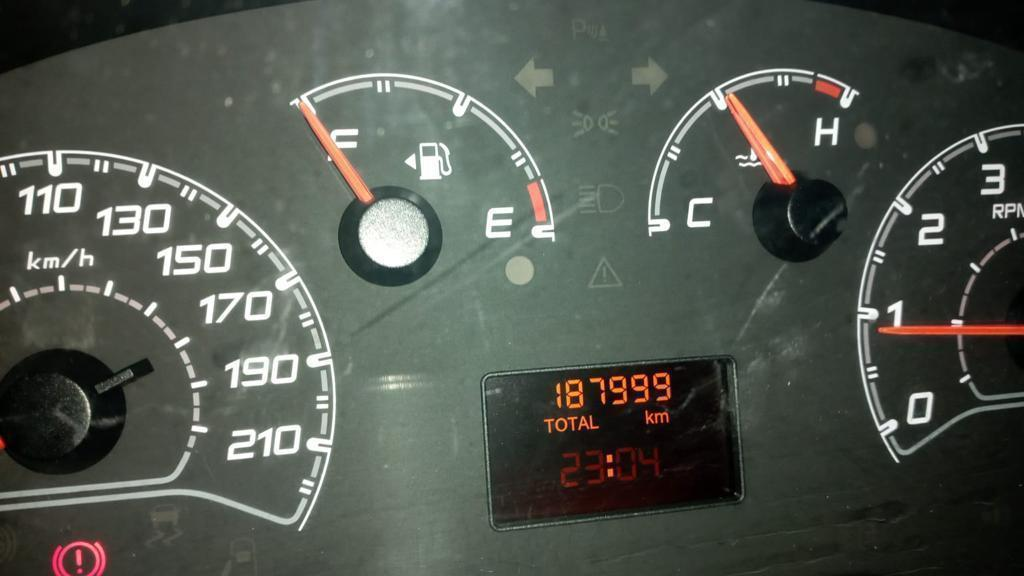0: (615, 445, 635, 483)
1: (554, 380, 563, 411)
2: (560, 451, 581, 490)
3: (583, 448, 606, 486)
4: (638, 446, 663, 478)
7: (588, 376, 607, 407)
8: (563, 377, 586, 409)
9: (608, 373, 628, 407), (630, 371, 651, 403), (652, 371, 671, 402)
X: (655, 410, 670, 425), (589, 413, 601, 431), (543, 416, 554, 435), (606, 452, 614, 478), (555, 415, 567, 432), (578, 414, 588, 433), (567, 413, 577, 431), (645, 408, 654, 425)
odometer: (470, 350, 753, 533)
